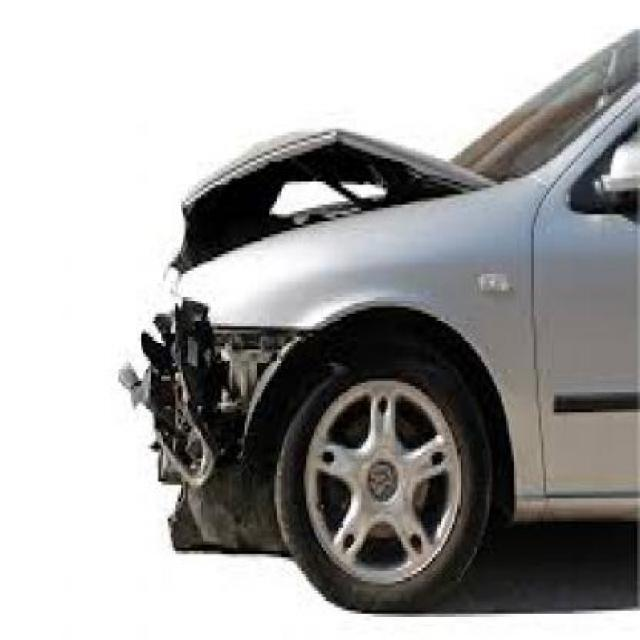damaged-hood: (167, 122, 504, 255)
